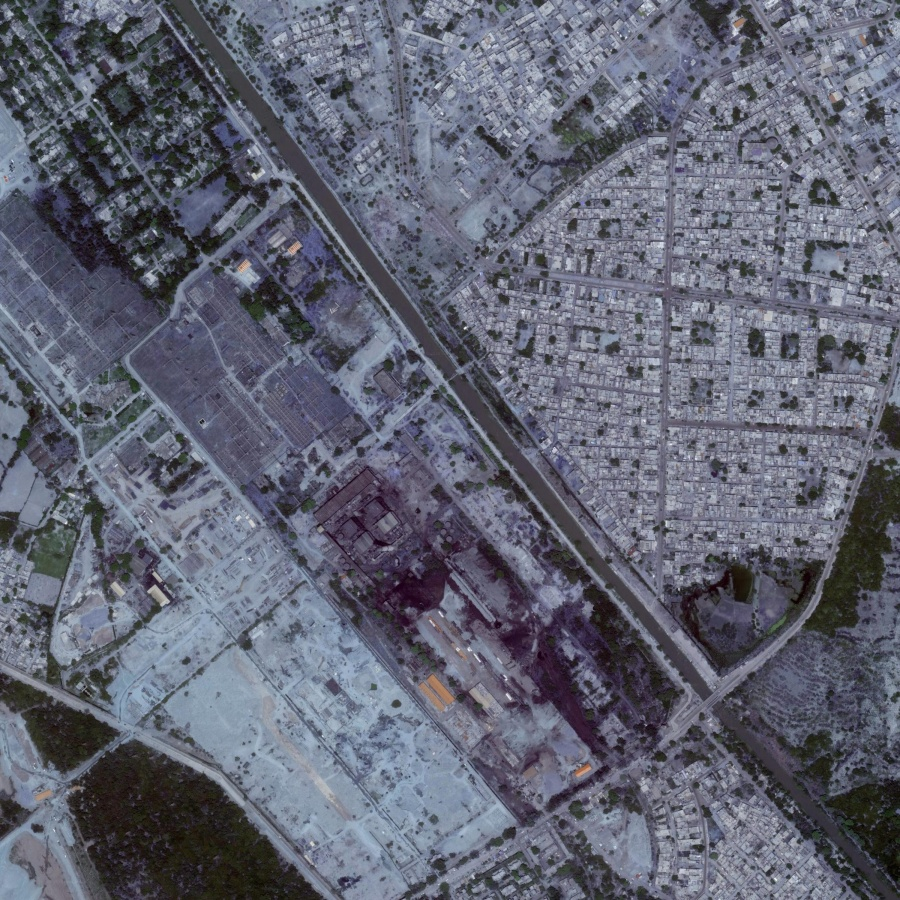PowerPlant: (314, 461, 613, 784)
